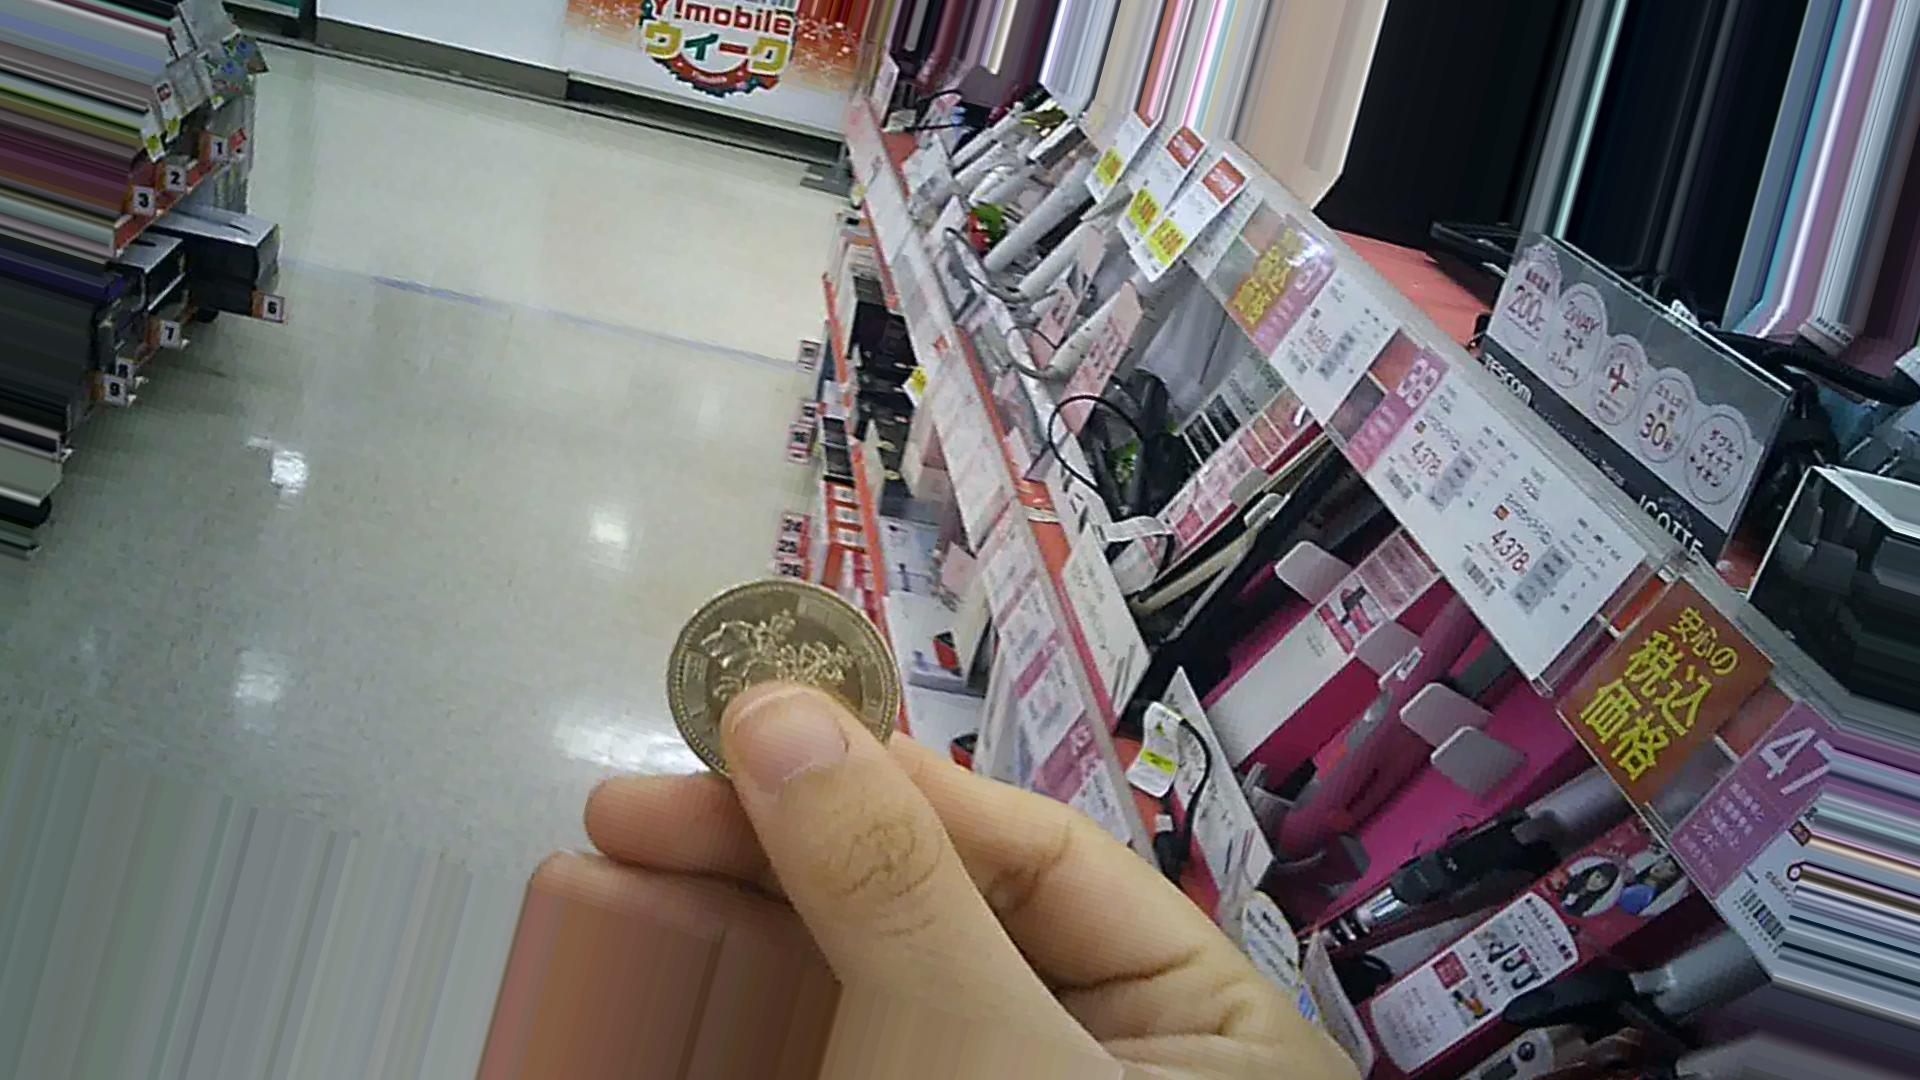500 Yen: (655, 562, 913, 783)
